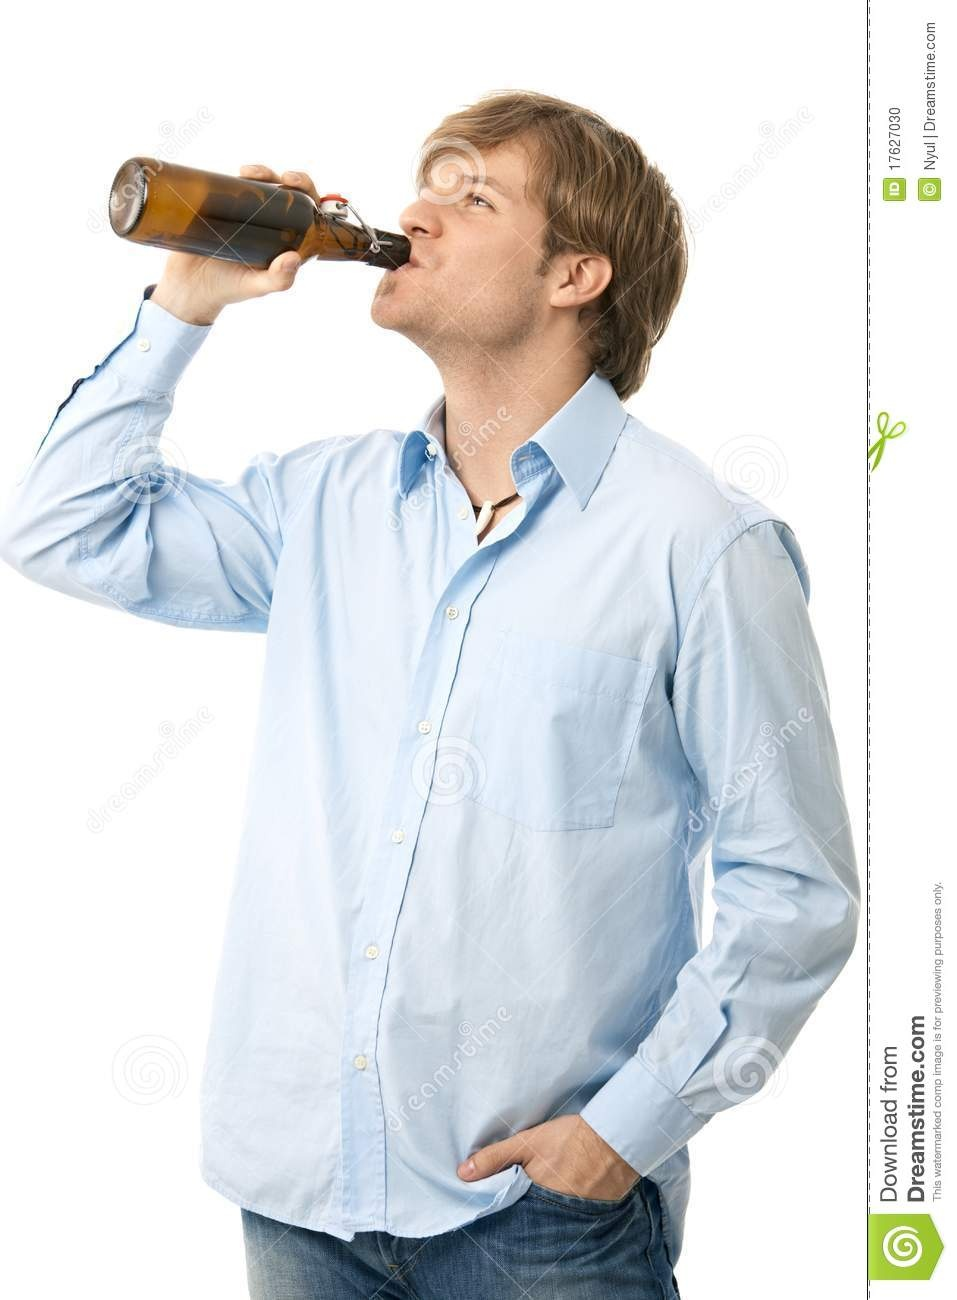beerBottle: (101, 160, 415, 268)
